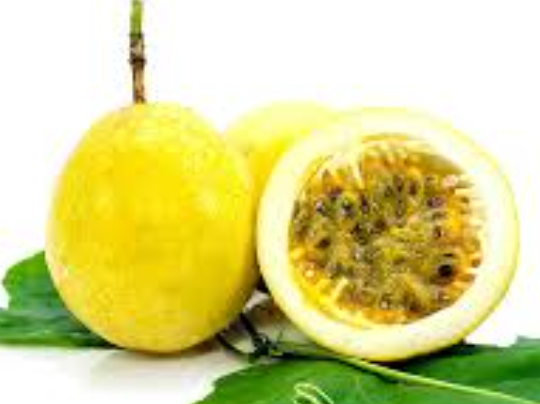maracuya: (36, 95, 259, 369)
